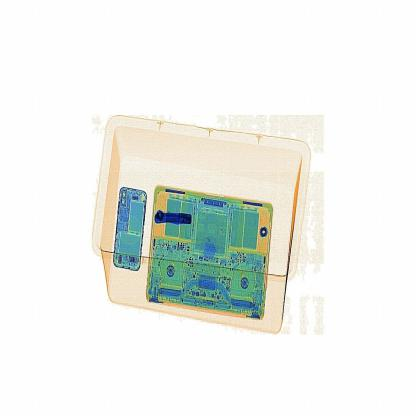knife: (151, 205, 195, 235)
